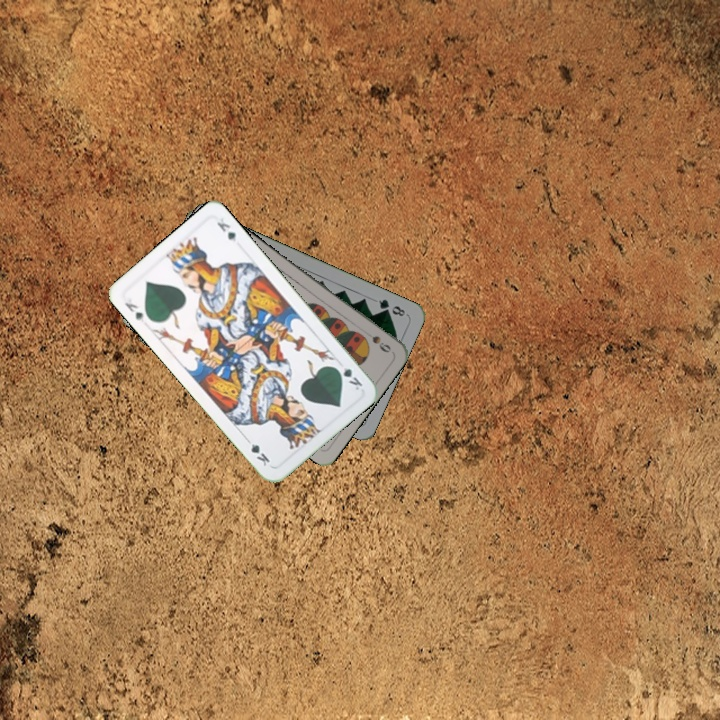G8: (375, 295, 410, 319)
GK: (331, 362, 365, 393), (121, 298, 146, 324)
S9: (361, 328, 394, 355)
